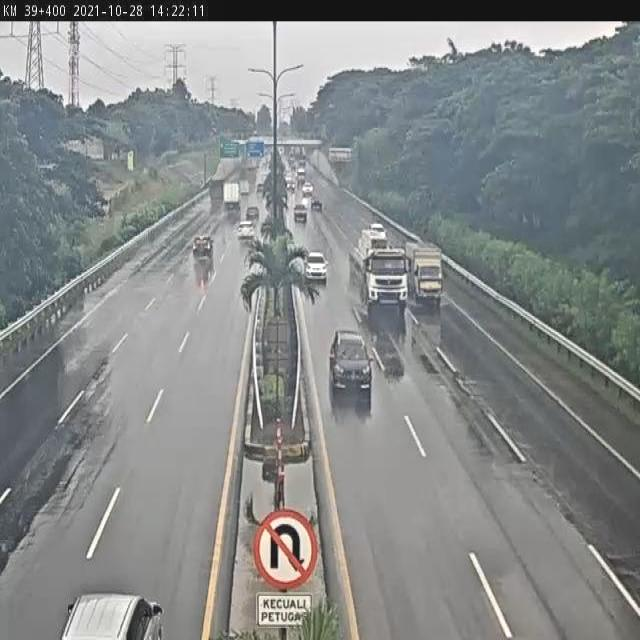Car: (59, 589, 162, 640), (328, 331, 374, 394), (305, 252, 327, 282), (192, 236, 213, 258), (237, 222, 254, 241), (370, 223, 387, 237), (294, 205, 307, 222), (247, 204, 259, 221), (302, 182, 313, 196), (312, 199, 322, 211), (287, 181, 296, 194), (256, 182, 266, 192)
Truck: (349, 226, 407, 314), (405, 240, 447, 300), (222, 181, 242, 209), (208, 177, 225, 201), (239, 178, 251, 198)
